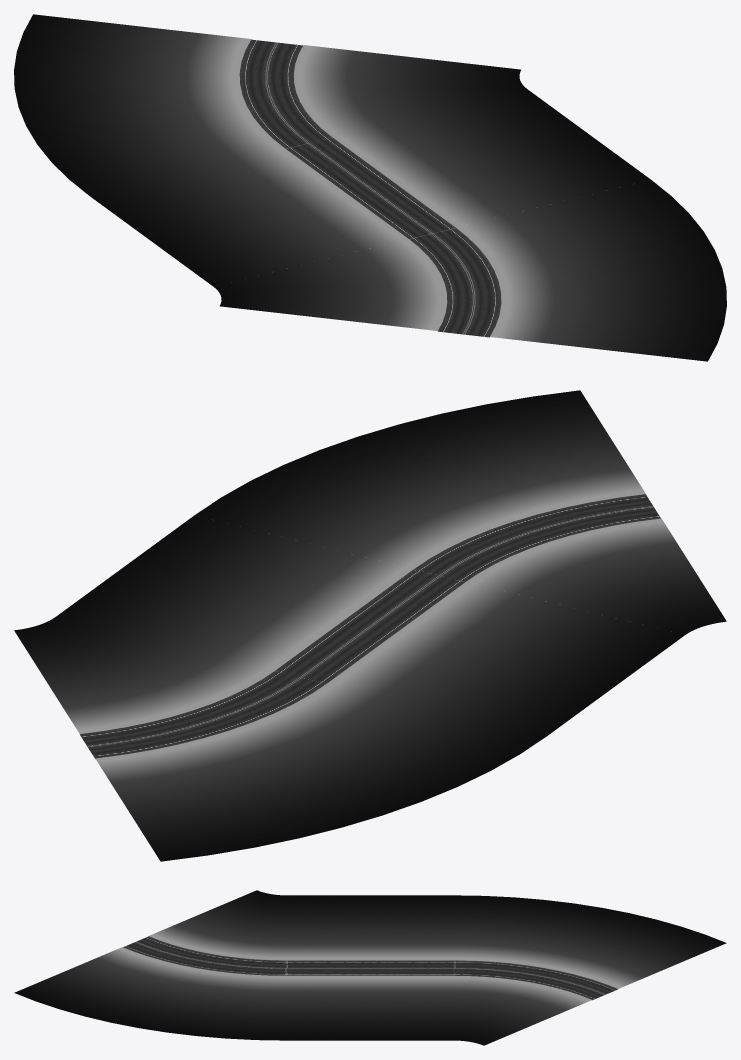
File: miami_road_005.FBX
3 views of the same model, one above another, from view 1: azimuth 30°, elevation 25°; view 2: azimuth 150°, elevation 25°; view 3: azimuth 270°, elevation 25° (orthographic). The views are drawn at different scales.
Visible parts, largest first — view 1: Plane019; view 2: Plane019; view 3: Plane019.
Boxes of the visible parts, bbox=[...] form: Plane019: bbox=[14, 14, 726, 361]; Plane019: bbox=[14, 390, 726, 861]; Plane019: bbox=[14, 890, 726, 1045].
Size of the model in its own units: 3510 by 6 by 6798.
